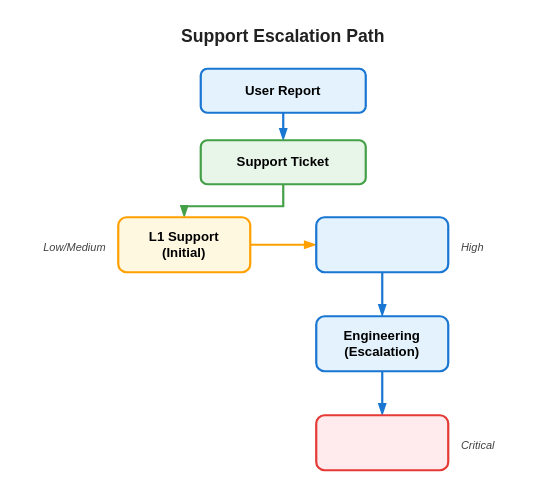
Image size: 543x490. Some labels were removed from this diagram. Each missing label, with the centre of its shape:
L2 Support (Technical): point 382,244
Management (Critical): point 382,442
